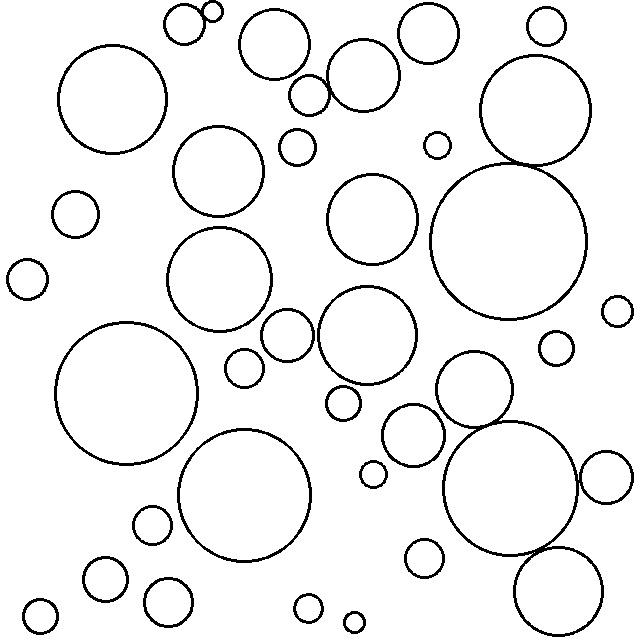circle: (427, 159, 593, 322), (52, 317, 201, 468), (440, 419, 582, 559), (176, 426, 315, 565), (476, 54, 596, 168), (57, 41, 170, 155), (166, 224, 277, 336), (315, 283, 422, 389), (324, 169, 421, 267), (172, 125, 268, 220), (512, 544, 606, 639), (434, 348, 517, 431), (234, 5, 315, 82), (327, 36, 403, 114), (379, 401, 449, 471), (397, 0, 464, 68), (577, 449, 640, 506), (259, 306, 317, 367), (142, 574, 197, 630), (49, 187, 103, 242), (80, 551, 132, 608), (129, 501, 177, 549), (286, 72, 334, 119), (5, 257, 52, 304), (221, 345, 267, 392), (403, 535, 449, 582), (161, 2, 206, 48), (276, 125, 321, 169), (525, 5, 570, 49), (322, 382, 366, 424), (536, 328, 580, 368), (20, 596, 63, 636), (600, 293, 637, 331), (291, 590, 327, 627), (358, 458, 390, 490), (421, 130, 453, 160), (341, 609, 369, 636), (200, 0, 227, 24)
